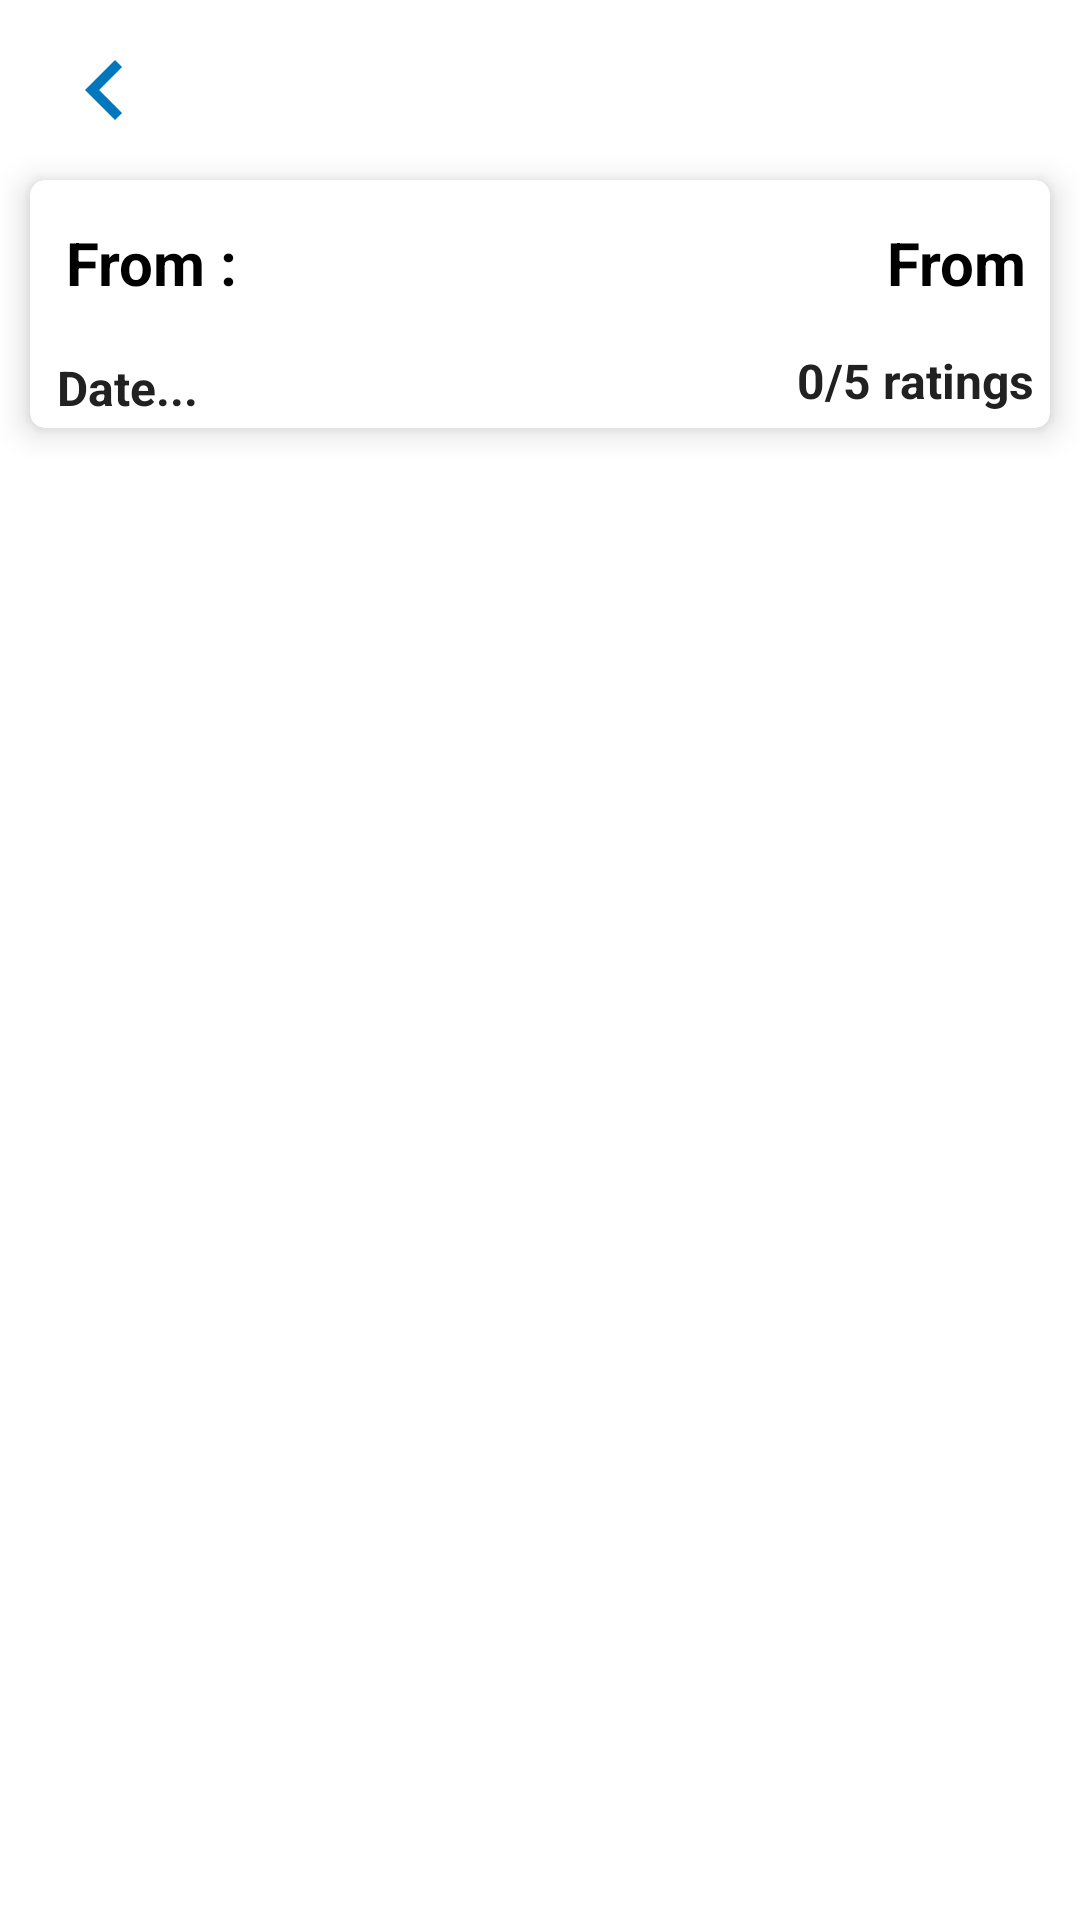

Point at icon controls on the screen. Image size 1080px x 1920px, points as [x,y].
chevron left: [103,90]
